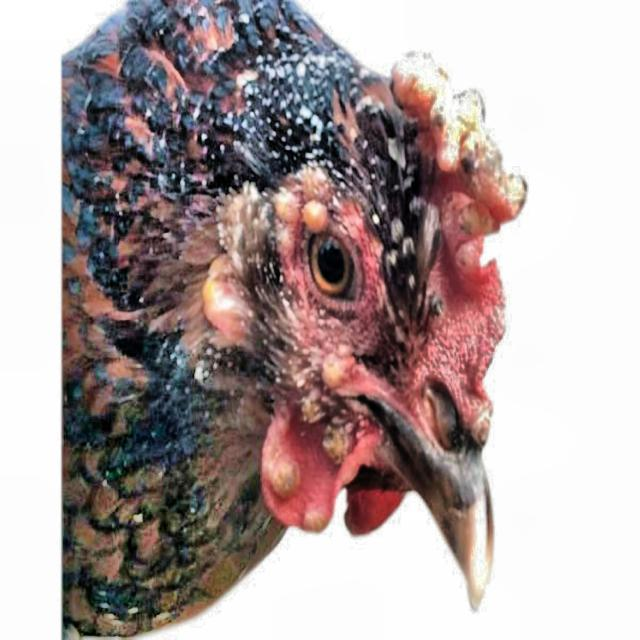Fowlpox: (159, 18, 582, 582)
